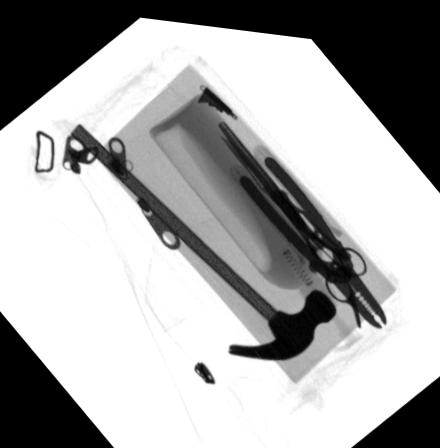Hammer: (67, 118, 339, 354)
Knife: (218, 123, 356, 267)
Pliers: (228, 136, 389, 320)
Scissors: (214, 111, 370, 320)
